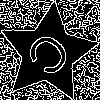C: (23, 28, 81, 87)
